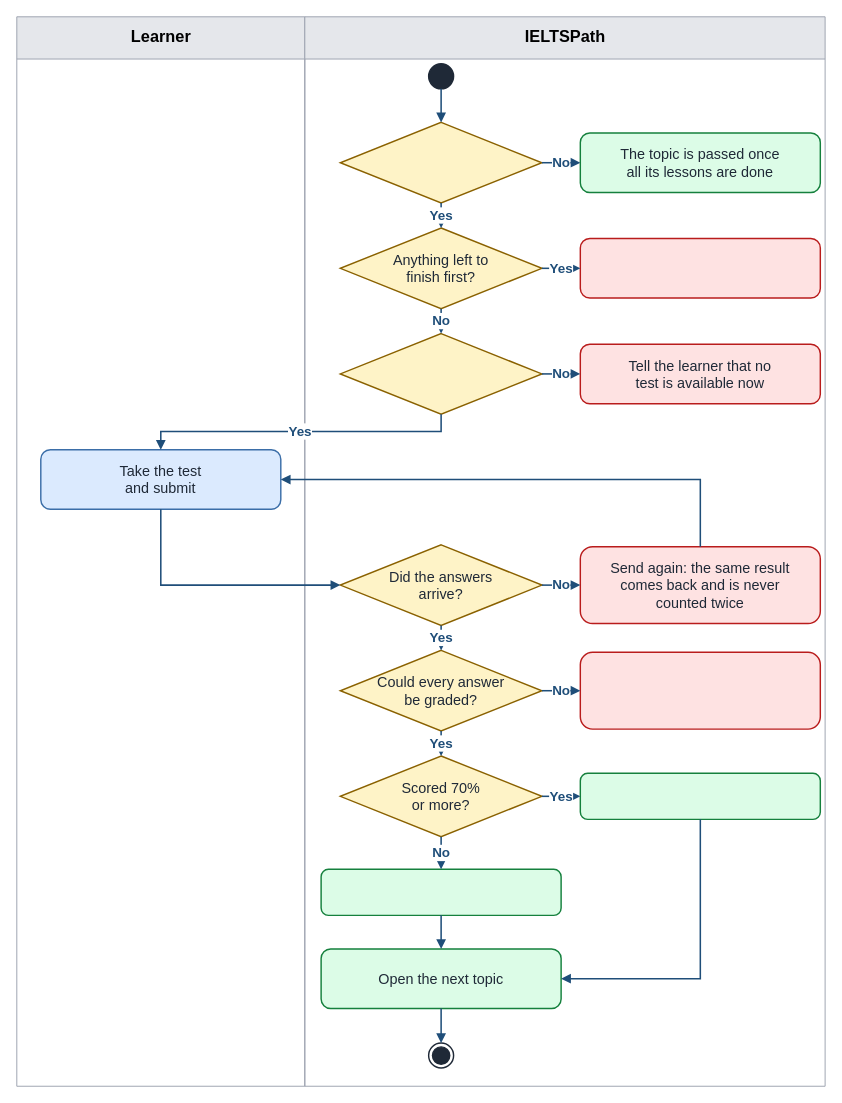
Image size: 842x1103. Some labels were removed from this diagram. The shapes that lost their labels are listed below. From the top down, each one's centre as x and y in pixels, then its label:
point 440,162: Does the topic have a test?
point 700,267: Tell the learner to finish lessons, practice or reviews
point 440,373: Is a test available?
point 700,690: Wait for an examiner; the learner is told when the result is ready
point 700,796: Mark the topic as passed
point 440,892: Mark the topic as completed
